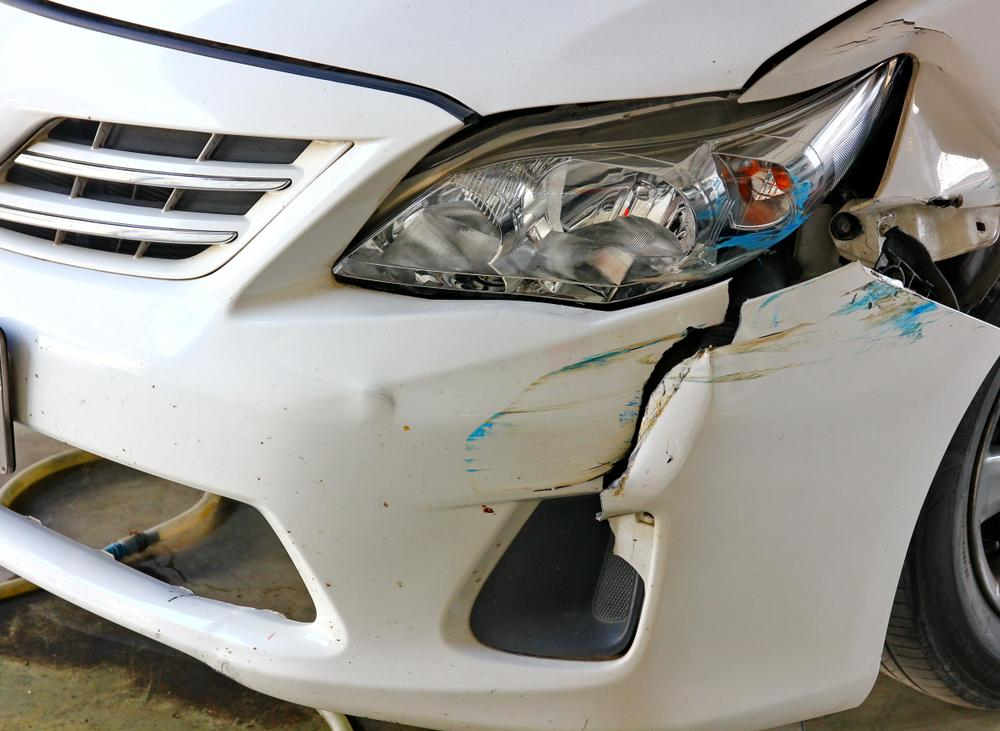crack: (597, 282, 750, 492)
dent: (893, 32, 1000, 210)
scratch: (616, 260, 948, 489), (458, 334, 684, 497)
